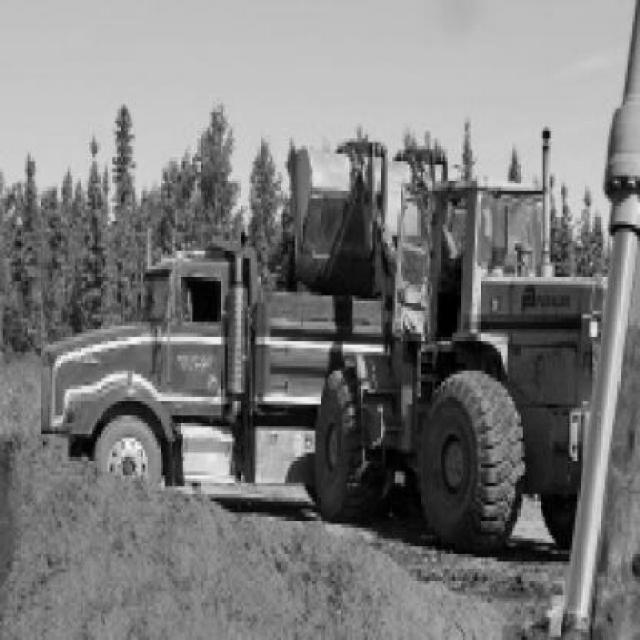Construction Equipment: (296, 142, 607, 553)
Truck- Multi-Axle: (43, 239, 383, 490)
